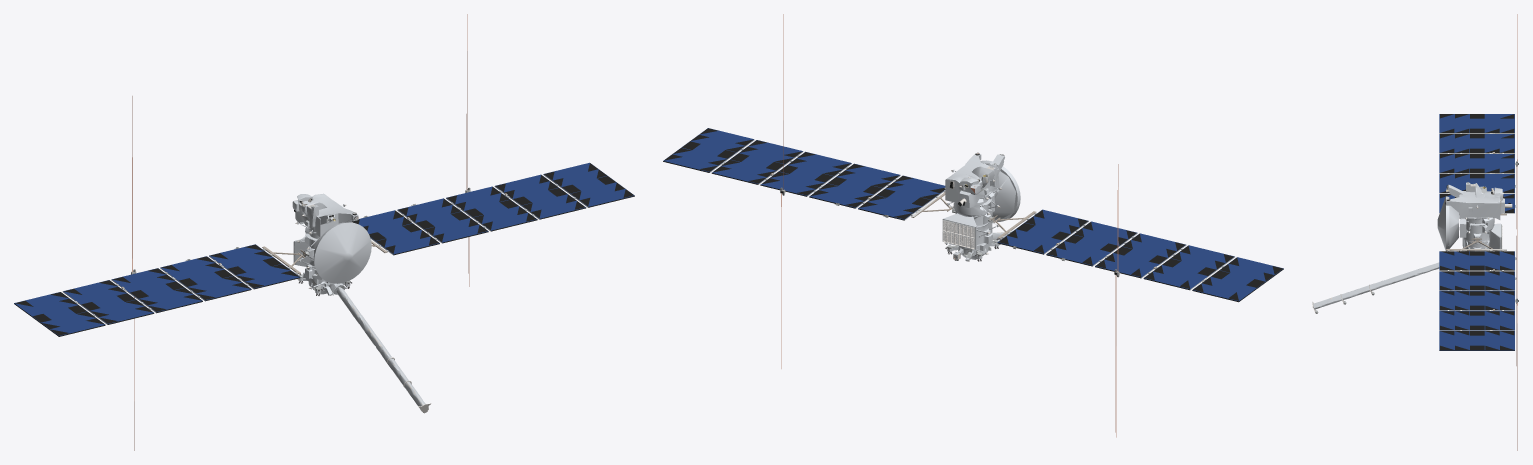
File: europa-clipper.glb
3 renders of one model, left to right at view 1: azimuth 30°, elevation 25°; view 2: azimuth 150°, elevation 25°; view 3: azimuth 270°, elevation 25°, orthographic. The views are drawn at different scales.
Parts seen in each view (by area): view 1: solar-panel, foil, body; view 2: solar-panel, foil, body; view 3: solar-panel, foil, body.
Part boxes in pixels (x1,y1,x2,y2): solar-panel: [14, 162, 634, 336]; foil: [292, 193, 425, 409]; body: [131, 14, 470, 450]; solar-panel: [663, 128, 1283, 302]; foil: [942, 154, 1020, 261]; body: [780, 14, 1119, 437]; solar-panel: [1439, 114, 1518, 350]; foil: [1313, 182, 1504, 309]; body: [1312, 14, 1517, 450].
Bounding box in the file's own units: 30.5 × 18 × 11.25.
